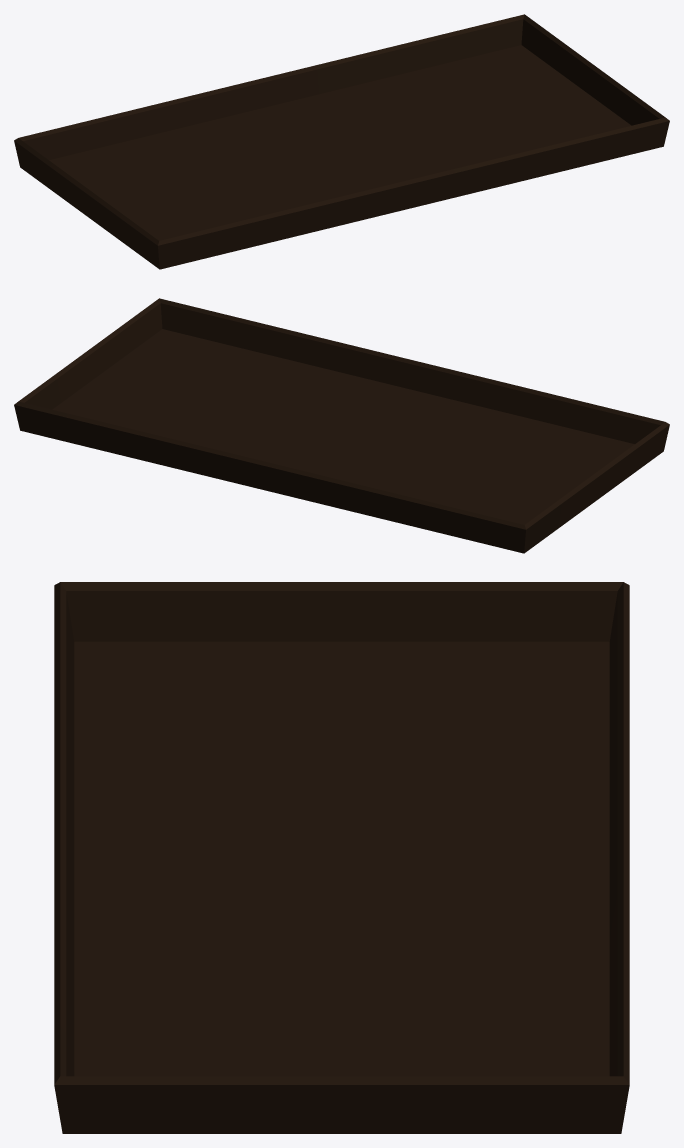
Rendered from Basket_Long.glb.
The picture shows the model from 3 angles, top to bottom: view 1: azimuth 30°, elevation 25°; view 2: azimuth 150°, elevation 25°; view 3: azimuth 270°, elevation 25°; orthographic projection. The views are drawn at different scales.
Parts seen in each view (by area): view 1: Basket_Long; view 2: Basket_Long; view 3: Basket_Long.
Part boxes in pixels (x1,y1,x2,y2): Basket_Long: (14,14,669,269); Basket_Long: (14,298,669,553); Basket_Long: (54,582,629,1133).
Size of the model in its own units: 1.83 by 0.1002 by 0.8899.
1 material, 1 textured.
